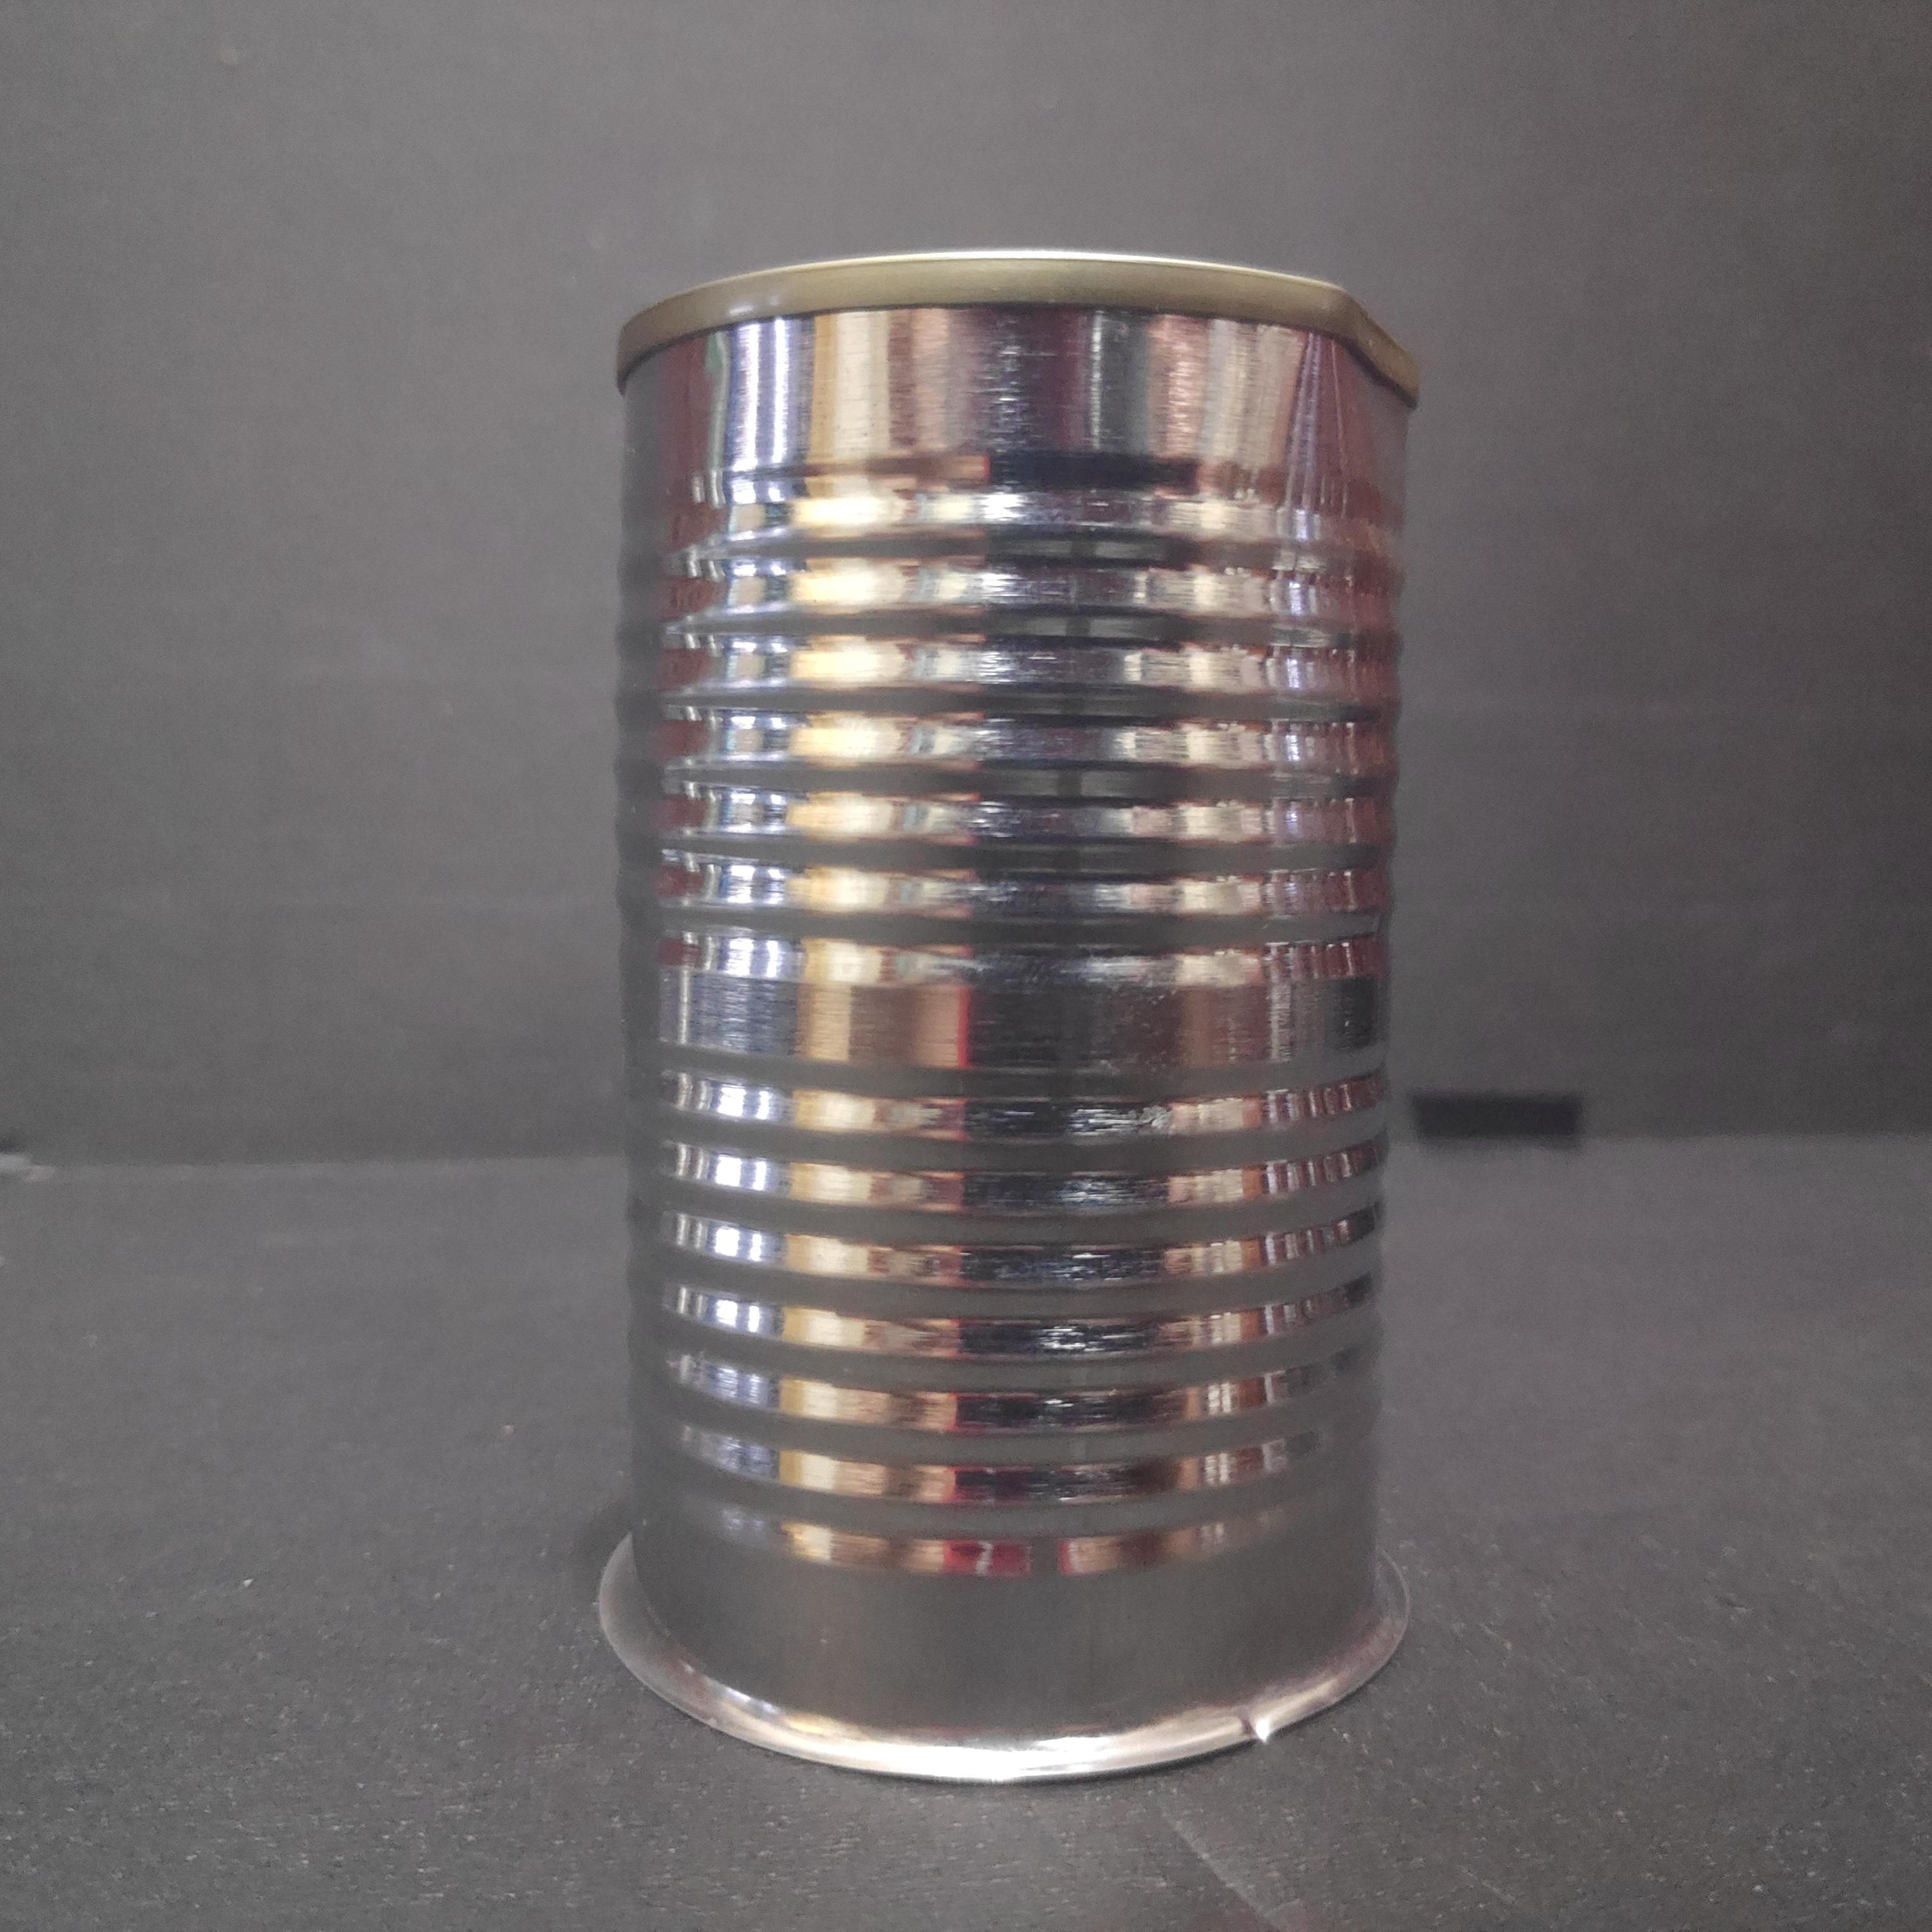Dented: (575, 220, 1425, 1792)
